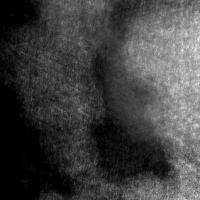patches: (100, 13, 200, 153), (89, 26, 170, 181), (1, 73, 54, 200), (32, 0, 146, 57), (106, 0, 198, 64), (1, 1, 46, 34)
